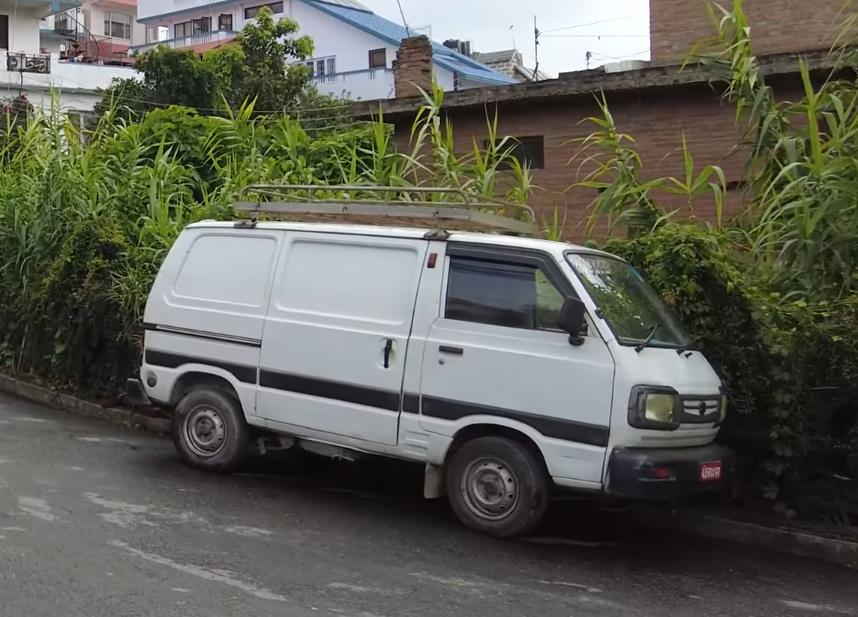van: (121, 198, 755, 545)
